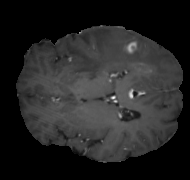Edema: (64, 26, 169, 84)
EnhancingTumors: (114, 30, 139, 57)
Necrosis: (115, 42, 137, 57)
